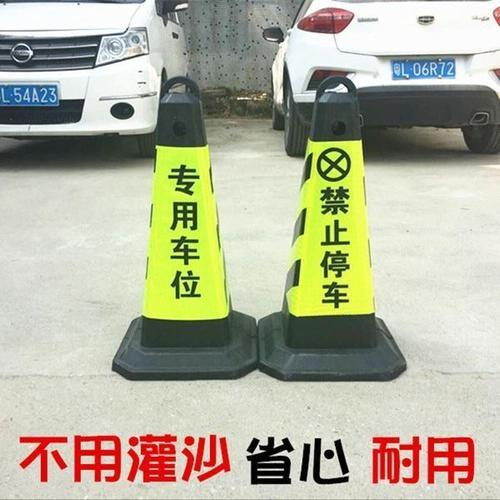cone_barrel: (261, 70, 406, 377), (114, 87, 251, 370)
